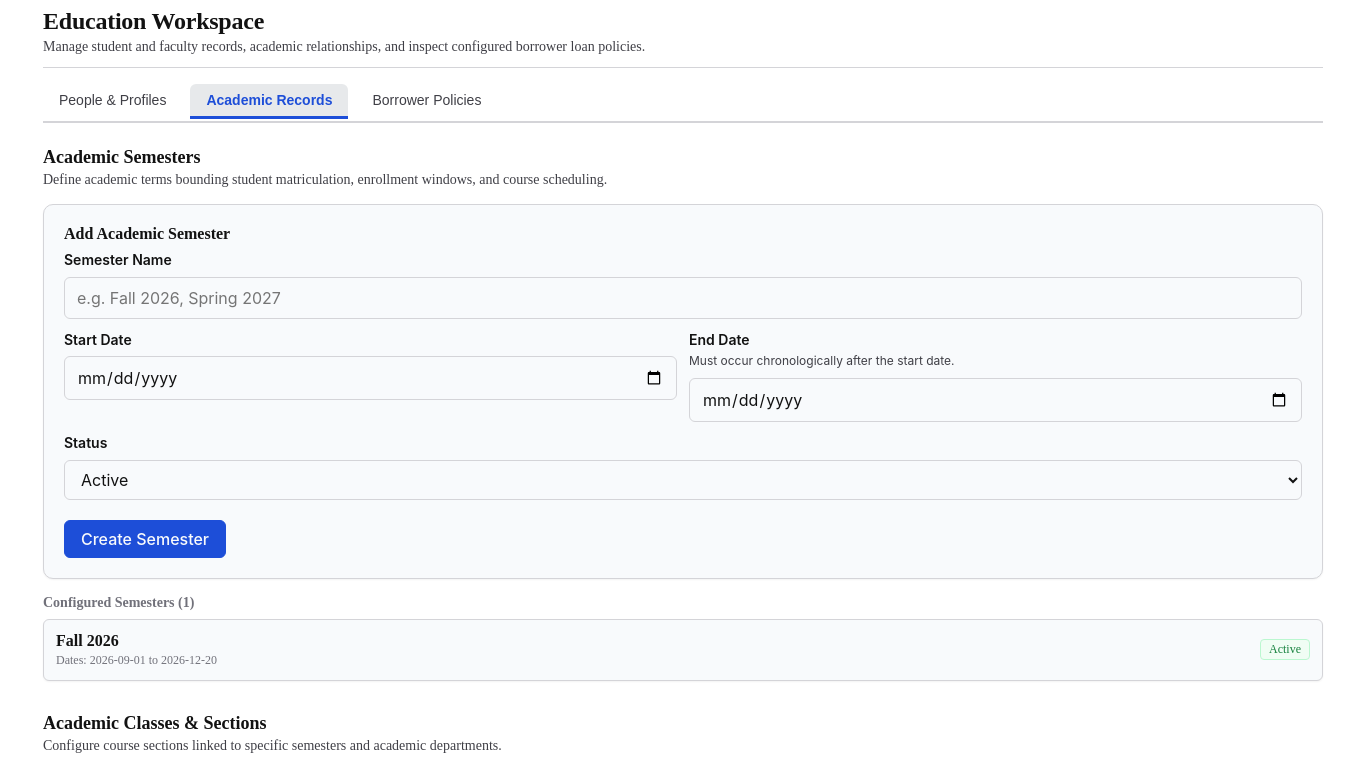
Test: Education management and borrower-policy views (FE-009) › Academic Records: Inline Date Validation Attachment › attaches academic date validation errors directly to the relevant date inputs upon server 400
The width and height of the screenshot is (1366, 760).
Expected: the text "Fall 2026" is shown, [56,632,119,648]
In the field labelled "Semester Name": (683, 298) [64,276,1302,318], type "Spring 2027"
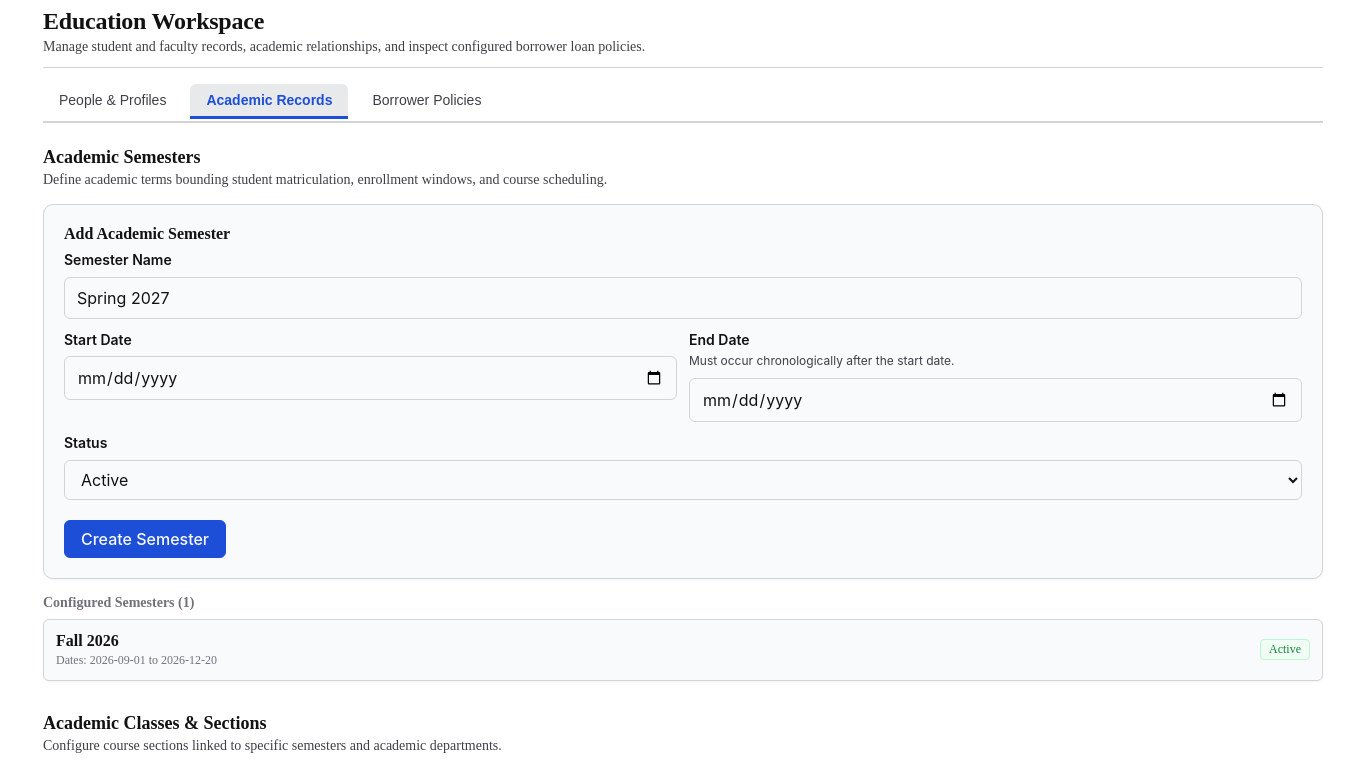
In the date field labelled "Start Date": (370, 378) [64,356,677,400], type "2027-06-01"
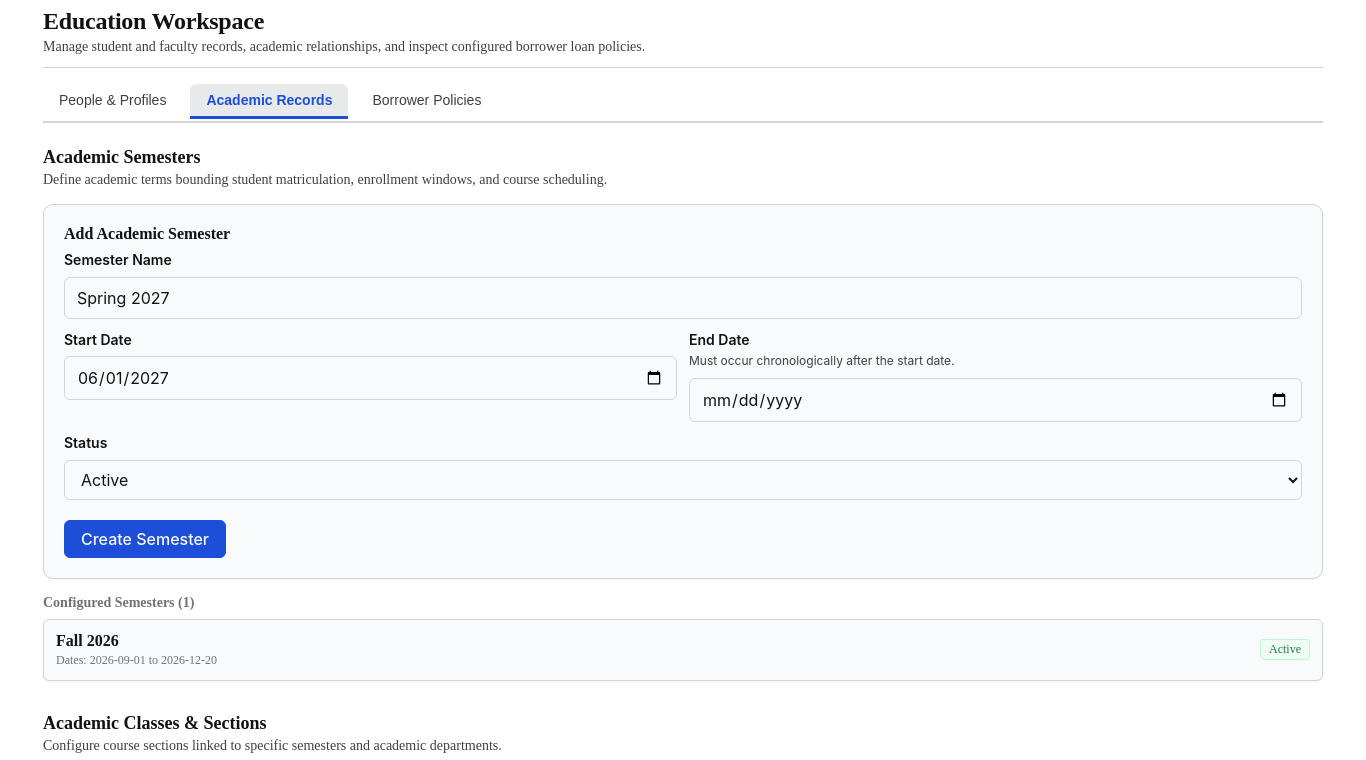
In the date field labelled "End Date": (996, 400) [689,378,1302,422], type "2027-01-01"
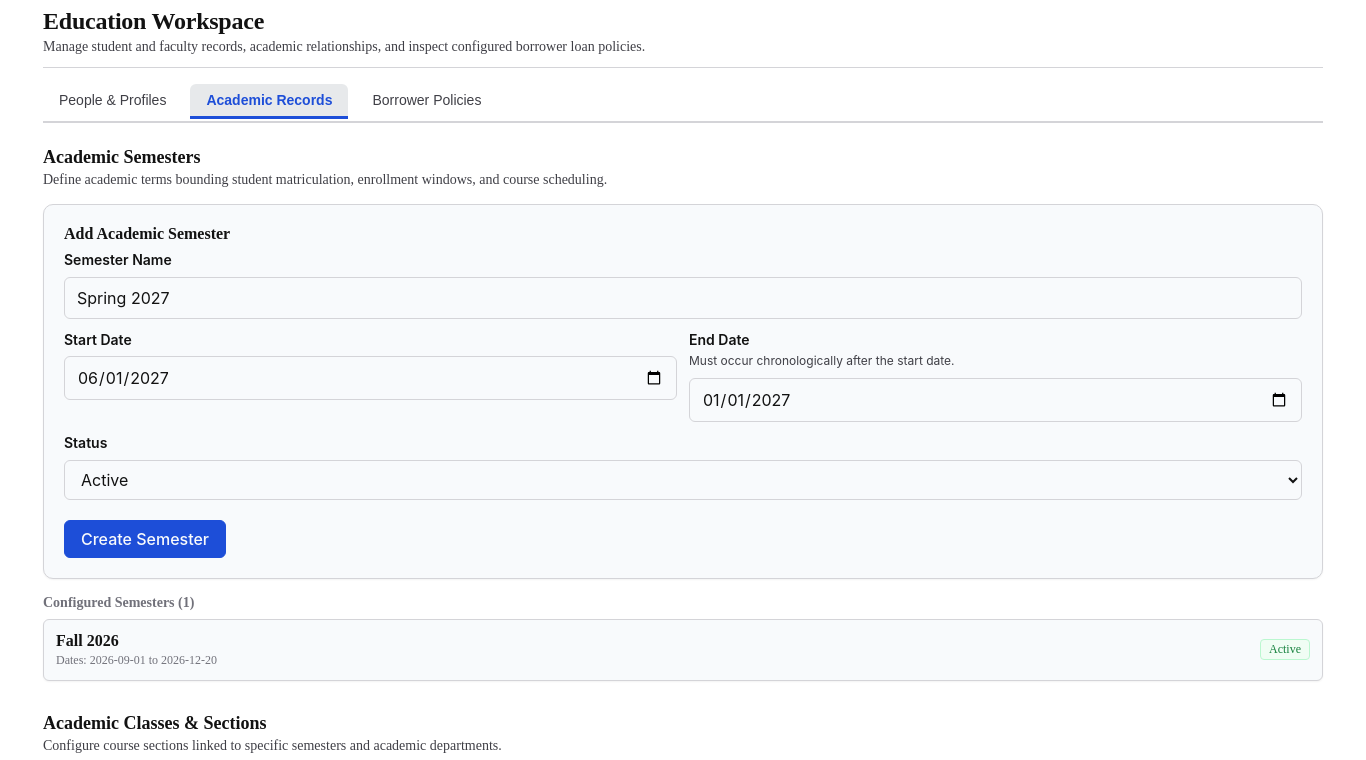
Click the button "Create Semester": (145, 538) [64,520,226,558]
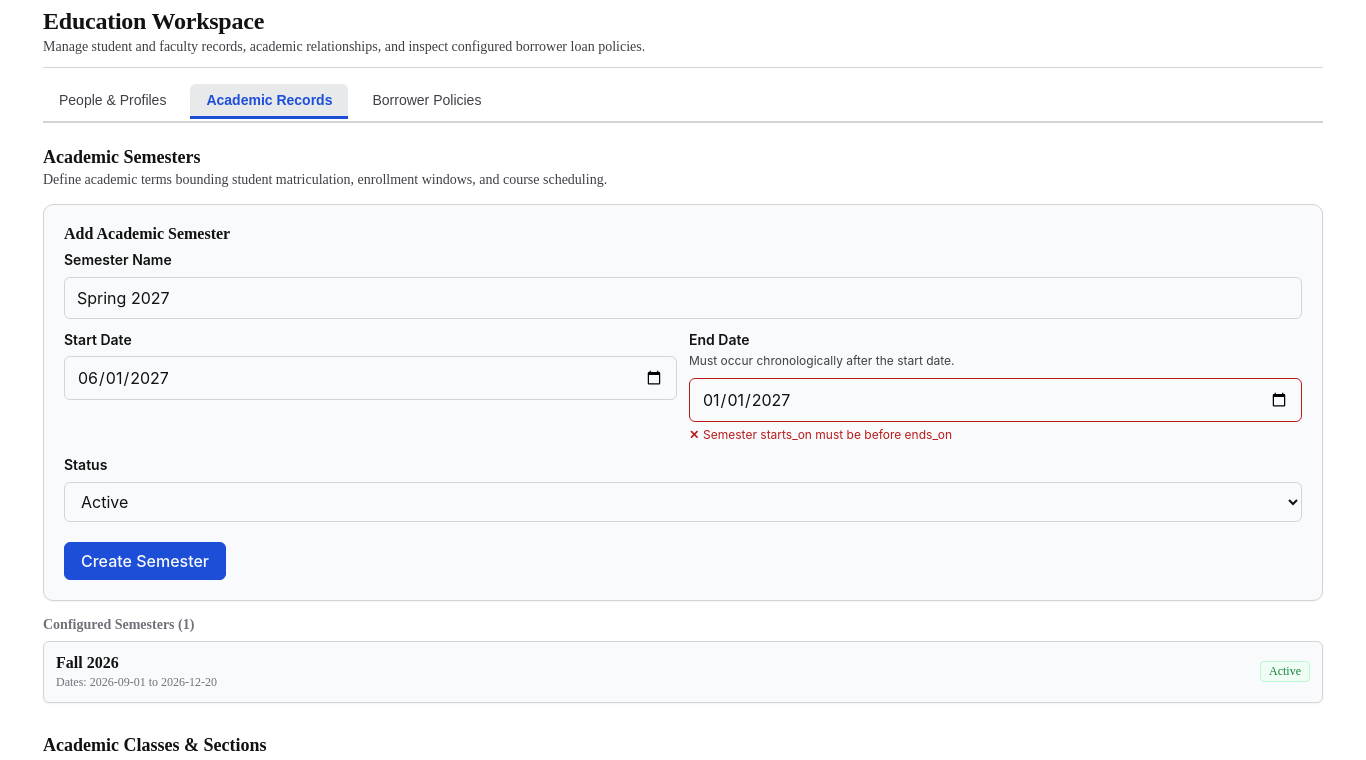
Now the text "Semester starts_on must be before ends_on" is shown, box [703,426,952,444]
